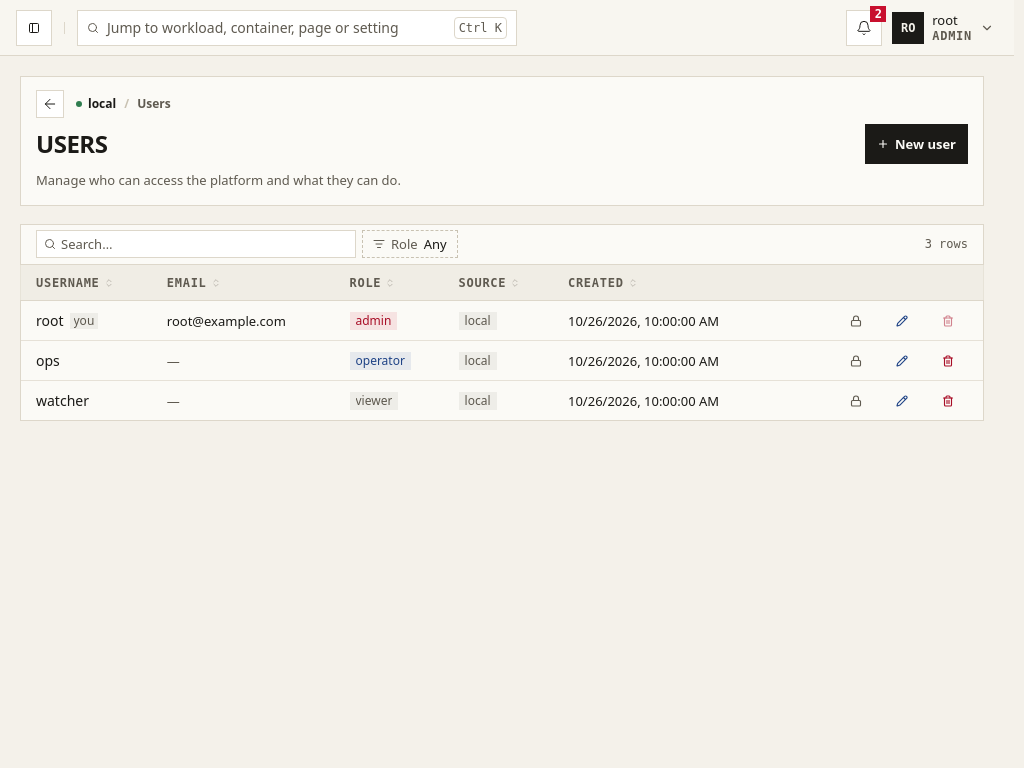
Test case: users page › reports an update failure
Click the button named "Edit ops" at (902, 361), box [882, 341, 922, 381]
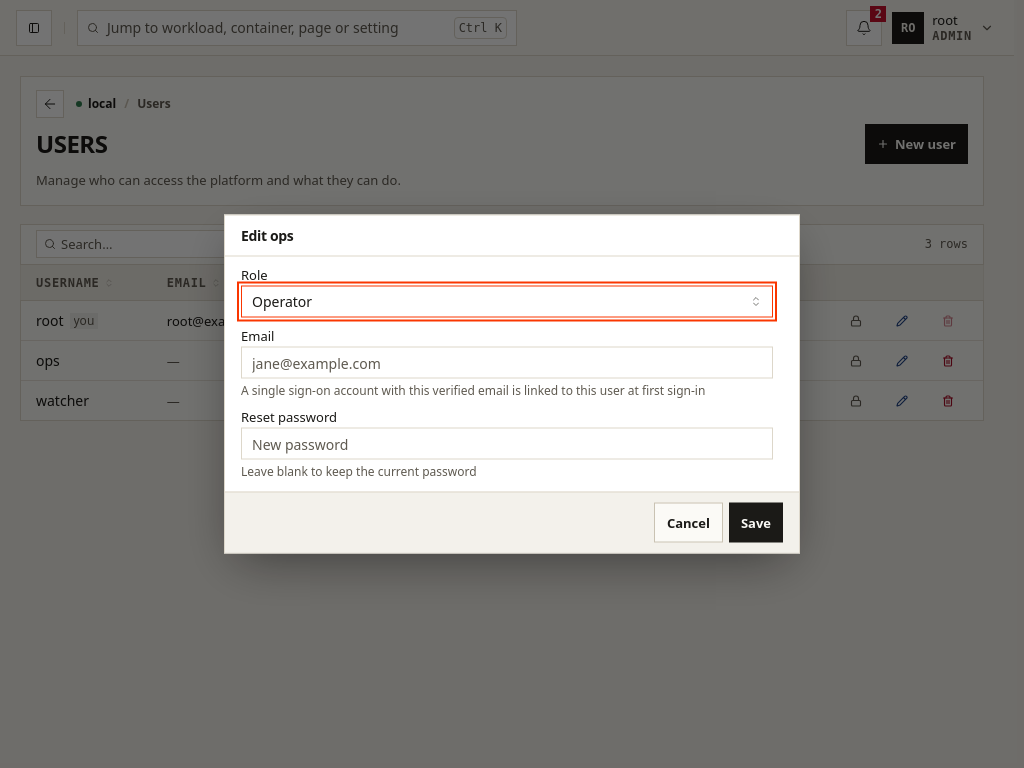
Click the button "Save" at (756, 522), box [729, 502, 783, 542]
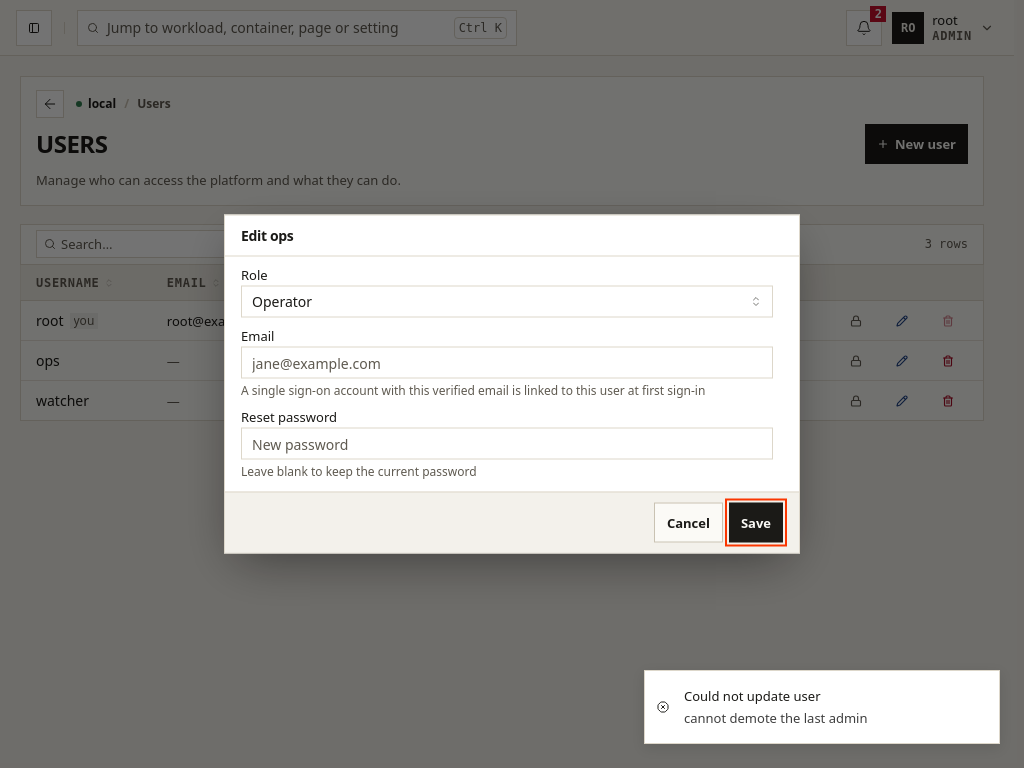
Check: the text "cannot demote the last admin" is shown, box [684, 709, 868, 727]
